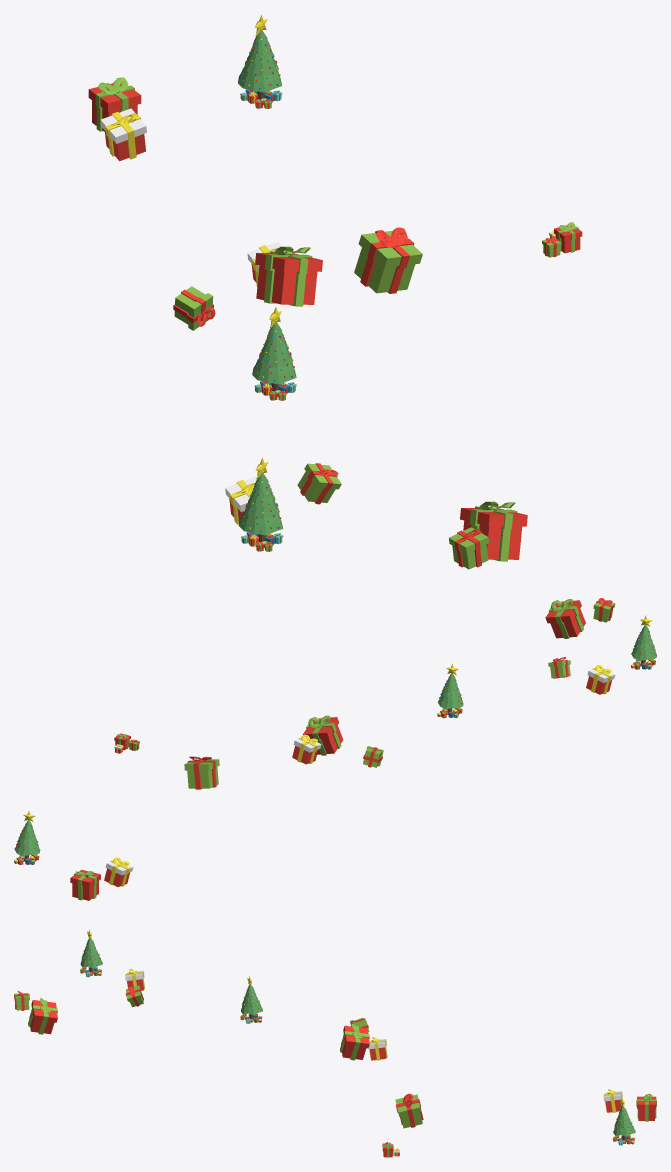
File: ChristmasStuff.glb
3 views of the same model, one above another, from view 1: azimuth 30°, elevation 25°; view 2: azimuth 150°, elevation 25°; view 3: azimuth 270°, elevation 25° (orthographic). The views are drawn at different scales.
Parts seen in each view (by area): view 1: Node.008, Node.001, Node.004, group375406252, group375406252.002, group375406252.001, Node.013, Node.012, Node.003, Node.007, Node.006, Node.005; view 2: Node.004, Node.001, Node.008, Node.012, group375406252, group375406252.002, group375406252.001, Node.002, Node.013, Node.005; view 3: Node.001, Node.004, Node.008, group375406252.002, group375406252, group375406252.001, Node.012, Node.002, Node.013.
Boxes of the visible parts, x1,y1,x2,y2 form: Node.008: (354, 227, 422, 293); Node.001: (255, 246, 322, 306); Node.004: (460, 501, 527, 561); group375406252: (252, 322, 296, 395); group375406252.002: (238, 30, 282, 103); group375406252.001: (238, 473, 283, 546); Node.013: (100, 108, 146, 161); Node.012: (88, 77, 141, 131); Node.003: (173, 286, 215, 330); Node.007: (297, 463, 341, 504); Node.006: (449, 527, 488, 569); Node.005: (225, 476, 256, 524); Node.004: (545, 599, 585, 638); Node.001: (303, 715, 343, 755); Node.008: (184, 756, 219, 789); Node.012: (70, 869, 100, 900); group375406252: (437, 673, 463, 718); group375406252.002: (14, 820, 40, 864); group375406252.001: (631, 624, 656, 669); Node.002: (292, 734, 321, 764); Node.013: (104, 857, 133, 886); Node.005: (586, 665, 615, 694); Node.001: (340, 1024, 369, 1060); Node.004: (28, 998, 57, 1034); Node.008: (395, 1093, 423, 1128); group375406252.002: (613, 1106, 635, 1145); group375406252: (241, 984, 262, 1023); group375406252.001: (80, 938, 102, 977); Node.012: (636, 1093, 656, 1121); Node.002: (368, 1037, 387, 1060); Node.013: (603, 1089, 622, 1112).
Size of the model in its own units: 133 by 35.6 by 234.
